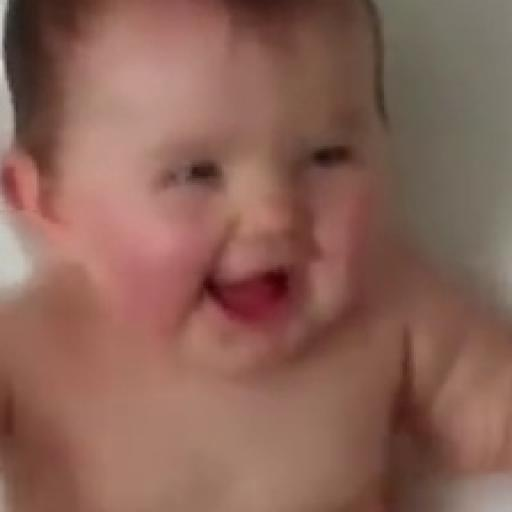Autism: (18, 14, 464, 402)
